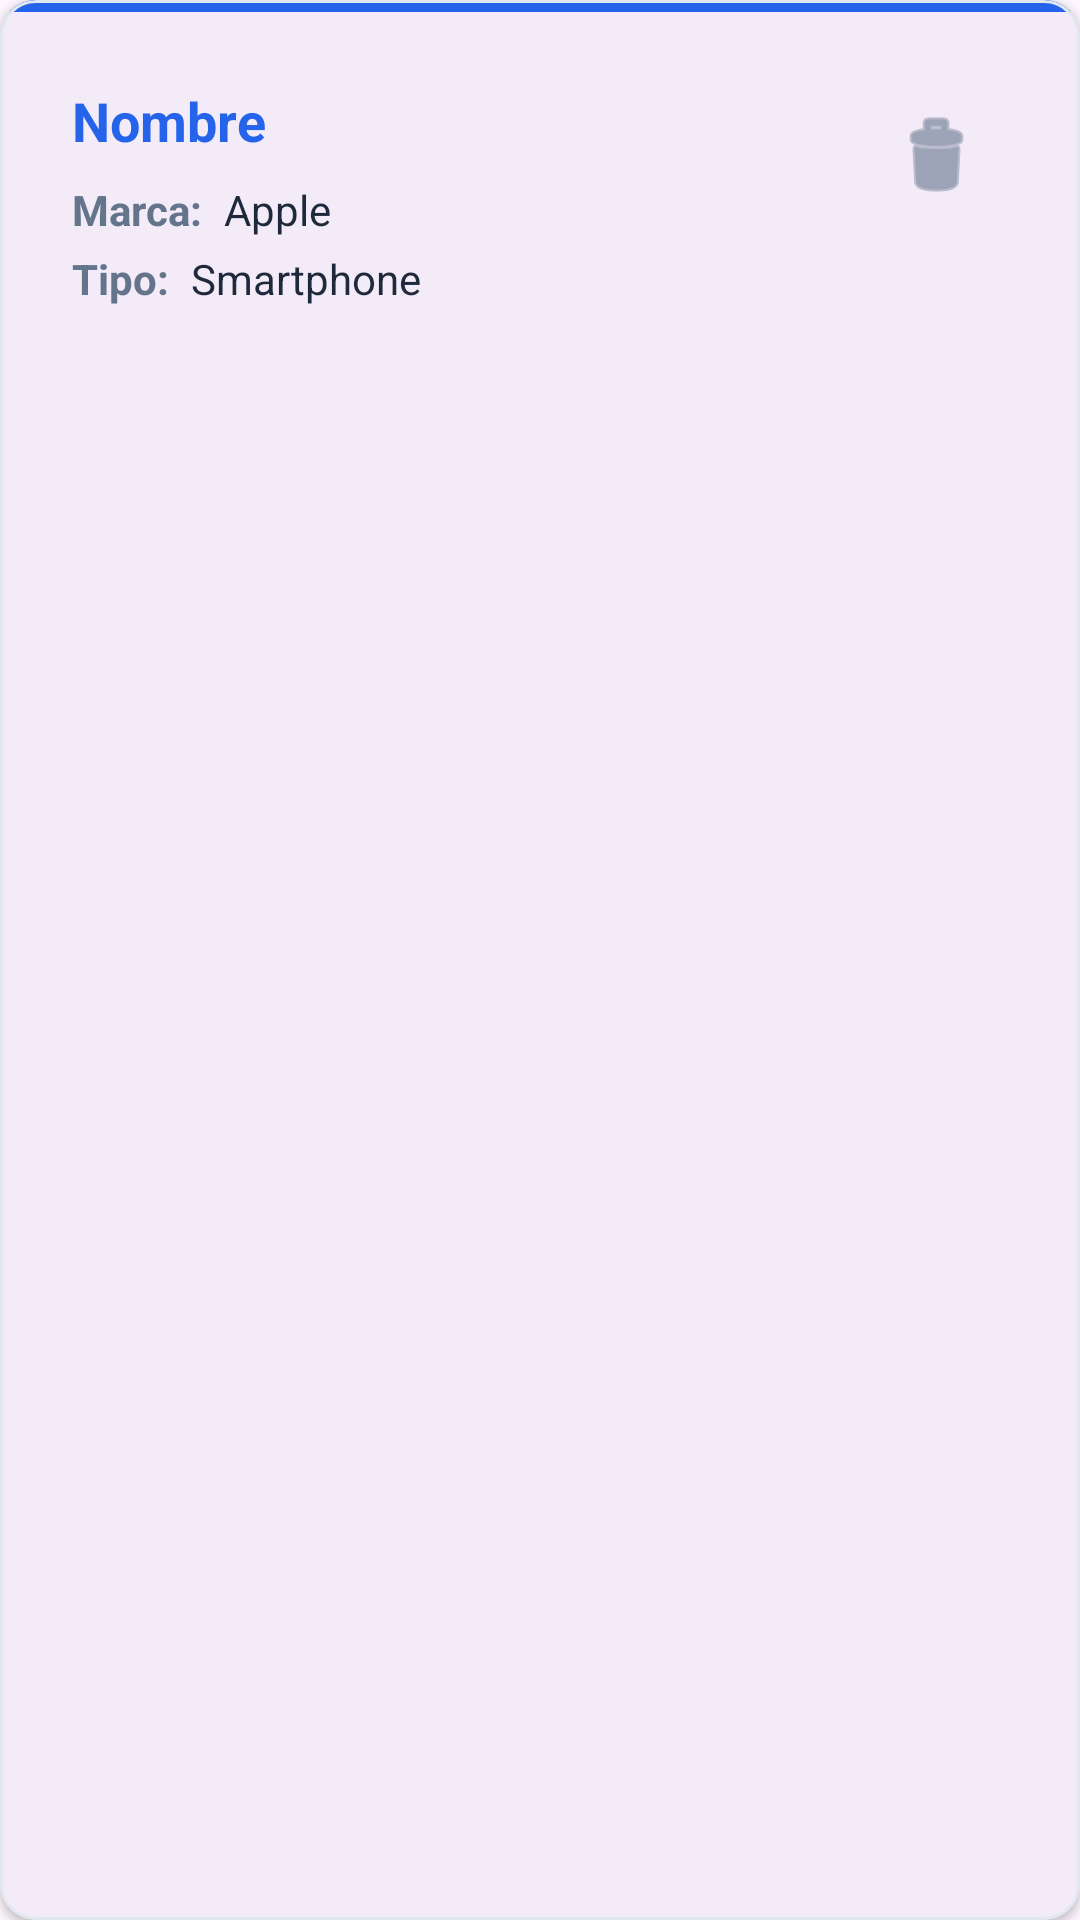

Named icons in this screenshot (1080 × 1920) and their centers, (x=x, y=y):
Eliminar dispositivo: (x=936, y=154)
